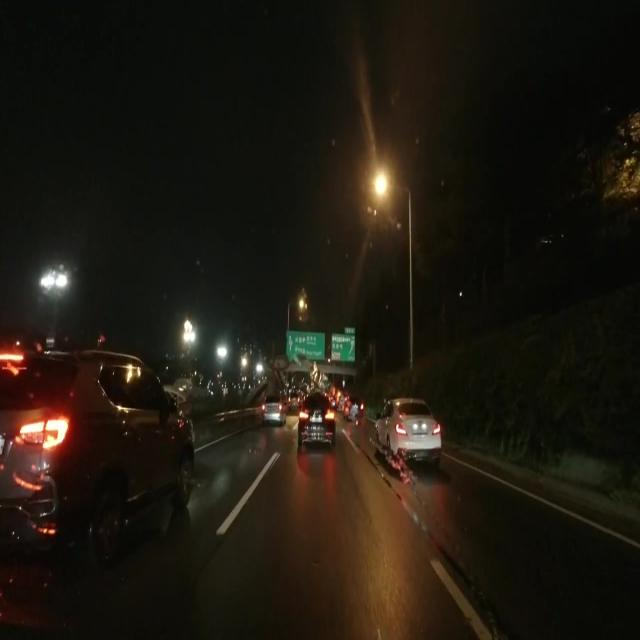Car: (7, 342, 191, 569), (373, 395, 441, 468), (295, 397, 334, 444), (259, 396, 284, 430)
